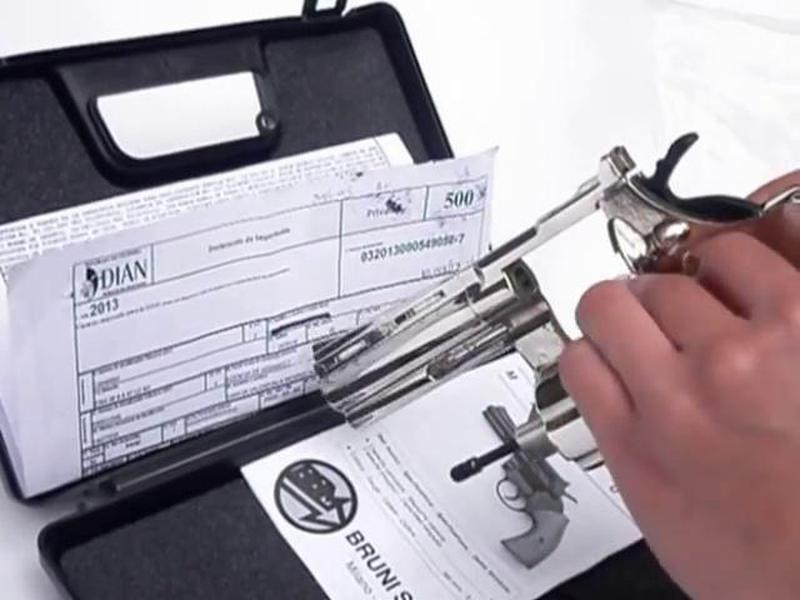Revolver: (324, 155, 800, 434)
